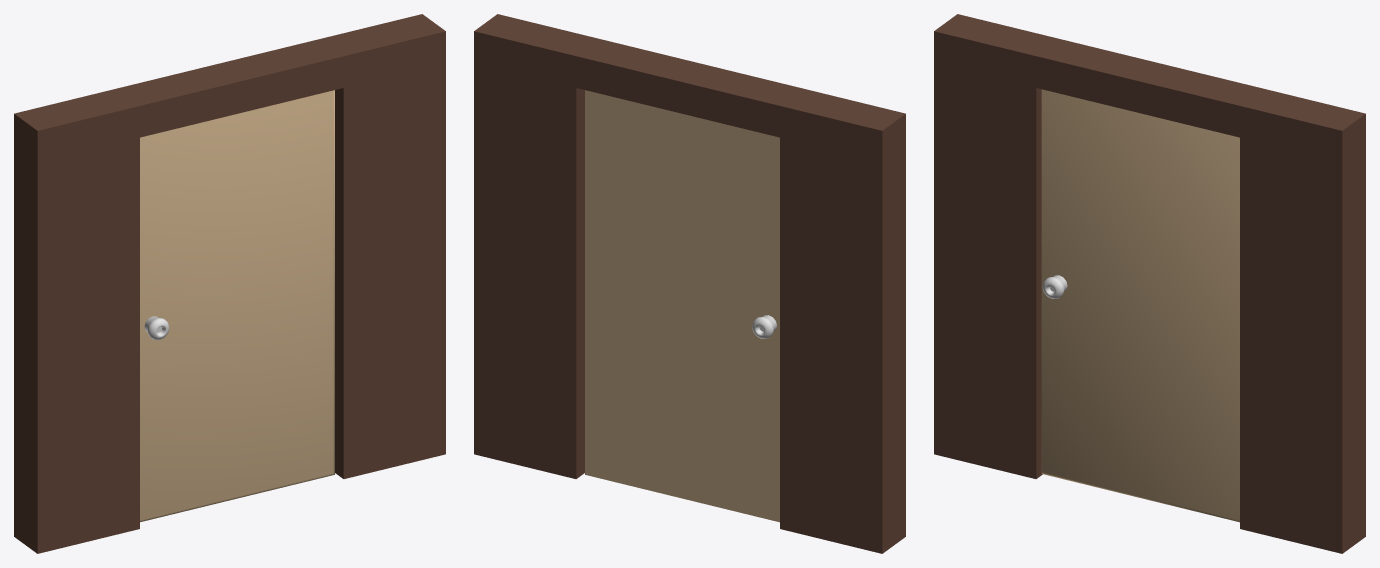
The model's file is Wc-Door.fbx.
3 views of the same model, side by side, from view 1: azimuth 30°, elevation 25°; view 2: azimuth 150°, elevation 25°; view 3: azimuth 330°, elevation 25° (orthographic).
Parts seen in each view (by area): view 1: Wc-Login-Door-Wall.004, Wc-Login-Door-Wall.003; view 2: Wc-Login-Door-Wall.004, Wc-Login-Door-Wall.003; view 3: Wc-Login-Door-Wall.004, Wc-Login-Door-Wall.003.
Part boxes in pixels (x1,y1,x2,y2): Wc-Login-Door-Wall.004: (14, 14, 445, 553); Wc-Login-Door-Wall.003: (140, 90, 334, 522); Wc-Login-Door-Wall.004: (474, 14, 905, 553); Wc-Login-Door-Wall.003: (585, 90, 779, 522); Wc-Login-Door-Wall.004: (934, 14, 1365, 553); Wc-Login-Door-Wall.003: (1041, 89, 1239, 522).
Size of the model in its own units: 2.02 by 2 by 0.2525.
